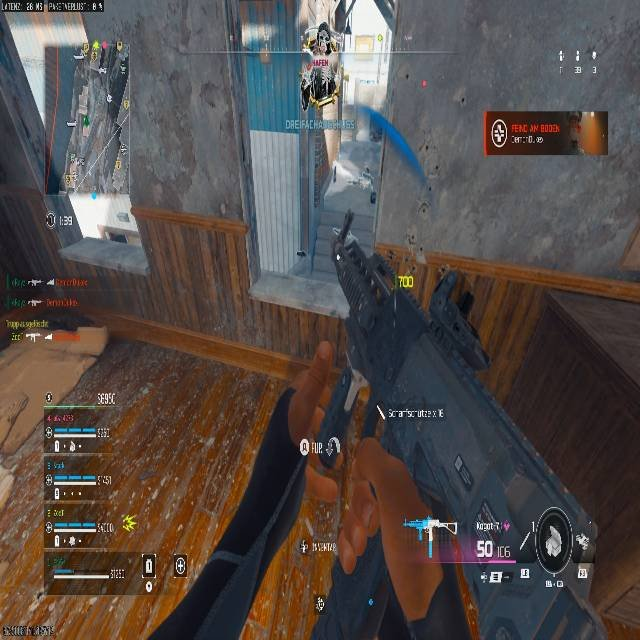player: (272, 320, 460, 637), (301, 21, 341, 111), (360, 165, 376, 204)
